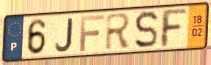6: (26, 17, 49, 57)
F: (159, 8, 189, 49), (79, 14, 106, 53)
J: (54, 17, 74, 53)
R: (104, 12, 133, 52)
S: (133, 10, 159, 51)
